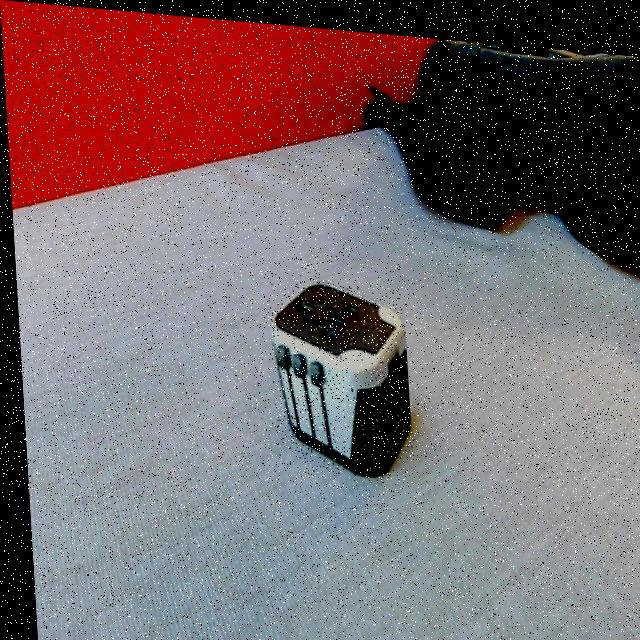adapter: (264, 271, 409, 474)
